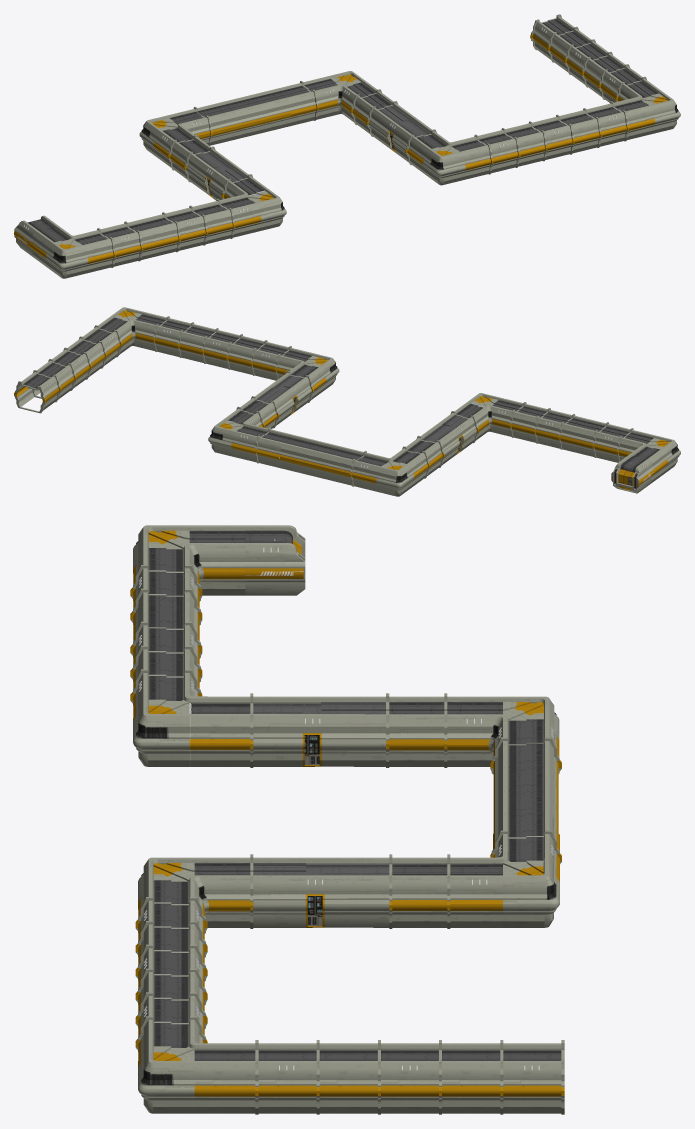
File: BandaTransporte.fbx
3 renders of one model, top to bottom at view 1: azimuth 30°, elevation 25°; view 2: azimuth 150°, elevation 25°; view 3: azimuth 270°, elevation 25°, orthographic. The views are drawn at different scales.
Visible parts, largest first — view 1: Cube.129, Cube.212, Cube.047; view 2: Cube.129, Cube.212, Cube.047; view 3: Cube.129, Cube.212, Cube.047.
Part boxes in pixels (<box>): Cube.129: <box>14,16,680,278</box>; Cube.212: <box>27,19,667,248</box>; Cube.047: <box>97,14,646,267</box>; Cube.129: <box>17,307,680,496</box>; Cube.212: <box>23,311,666,472</box>; Cube.047: <box>14,316,633,486</box>; Cube.129: <box>133,525,561,1113</box>; Cube.212: <box>148,530,561,1060</box>; Cube.047: <box>130,565,564,1114</box>.
Bounding box in the file's own units: 1276 × 57.49 × 428.
